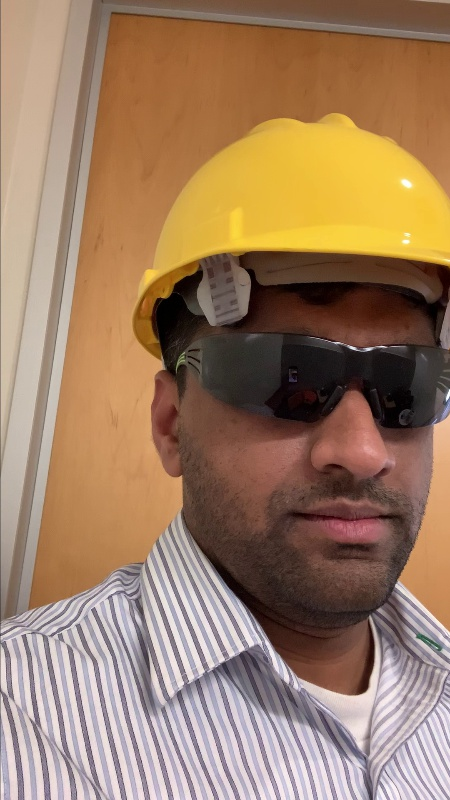glasses: (167, 325, 450, 433)
helmet: (110, 108, 450, 339)
